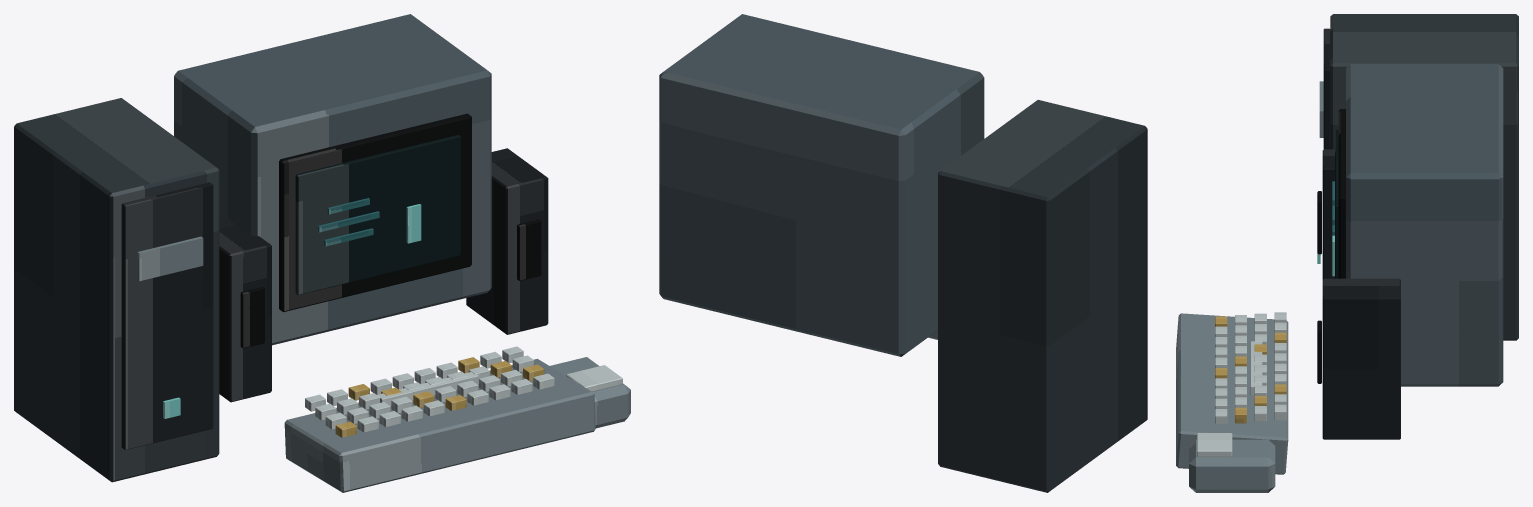
The model's file is retro_computer_tower_charcoal.glb.
3 views of the same model, side by side, from view 1: azimuth 30°, elevation 25°; view 2: azimuth 150°, elevation 25°; view 3: azimuth 270°, elevation 25° (orthographic). The views are drawn at different scales.
Visible parts, largest first — view 1: Tower, MonitorShell, TowerFace, MonitorGlow, KeyboardBody, MonitorFace, Speaker_R, Speaker_L, DriveBay, Mouse, SpeakerCone_L, SpeakerCone_R (+2 smaller); view 2: MonitorShell, Tower; view 3: MonitorShell, Tower, Speaker_R, KeyboardBody, Mouse, Speaker_L, MonitorFace, TowerFace, MouseButton, MonitorGlow, SpaceBar.
Boxes of the visible parts, x1,y1,x2,y2 form: Tower: (14, 98, 219, 482); MonitorShell: (174, 14, 491, 345); TowerFace: (121, 182, 213, 449); MonitorGlow: (295, 135, 460, 295); KeyboardBody: (284, 358, 595, 492); MonitorFace: (279, 113, 471, 312); Speaker_R: (466, 148, 548, 334); Speaker_L: (219, 217, 271, 402); DriveBay: (137, 236, 203, 281); Mouse: (550, 357, 630, 428); SpeakerCone_L: (240, 287, 264, 348); SpeakerCone_R: (517, 219, 541, 280); MonitorShell: (659, 14, 984, 356); Tower: (938, 100, 1147, 492); MonitorShell: (1346, 64, 1503, 386); Tower: (1330, 14, 1518, 340); Speaker_R: (1322, 278, 1400, 439); KeyboardBody: (1176, 313, 1288, 474); Mouse: (1189, 439, 1275, 492); Speaker_L: (1322, 149, 1334, 279); MonitorFace: (1338, 109, 1345, 278); TowerFace: (1323, 28, 1330, 149); MouseButton: (1197, 433, 1232, 456); MonitorGlow: (1335, 129, 1338, 278); SpaceBar: (1250, 341, 1262, 395).
Bounding box in the file's own units: 1.27 × 0.84 × 0.8729.
1 material, 1 textured.
